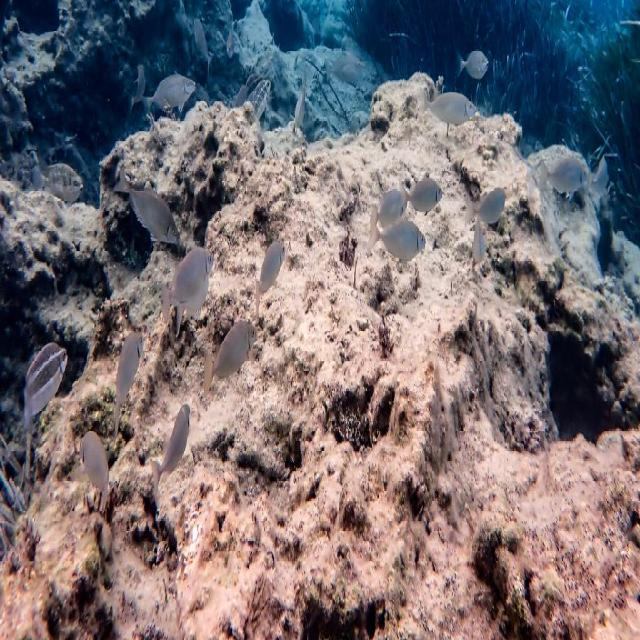Sokar Baligi: (15, 333, 75, 459), (199, 308, 264, 399), (148, 396, 195, 503), (535, 140, 595, 207), (413, 88, 493, 129)
